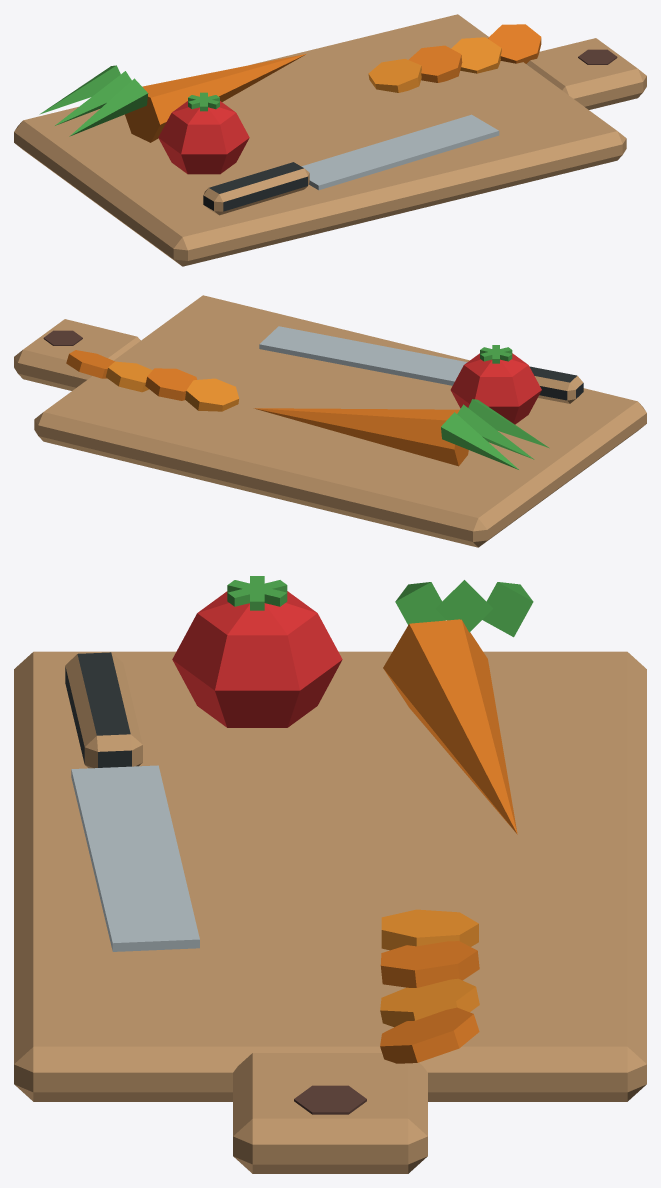
File: schneidebrett.glb
3 renders of one model, top to bottom at view 1: azimuth 30°, elevation 25°; view 2: azimuth 150°, elevation 25°; view 3: azimuth 270°, elevation 25°, orthographic. The views are drawn at different scales.
Parts seen in each view (by area): view 1: schneidebrett-m; view 2: schneidebrett-m; view 3: schneidebrett-m.
Part boxes in pixels (bbox=[...]): schneidebrett-m: bbox=[14, 14, 646, 266]; schneidebrett-m: bbox=[14, 295, 646, 547]; schneidebrett-m: bbox=[14, 576, 646, 1173].
Size of the model in its own units: 0.4734 by 0.088 by 0.26.
